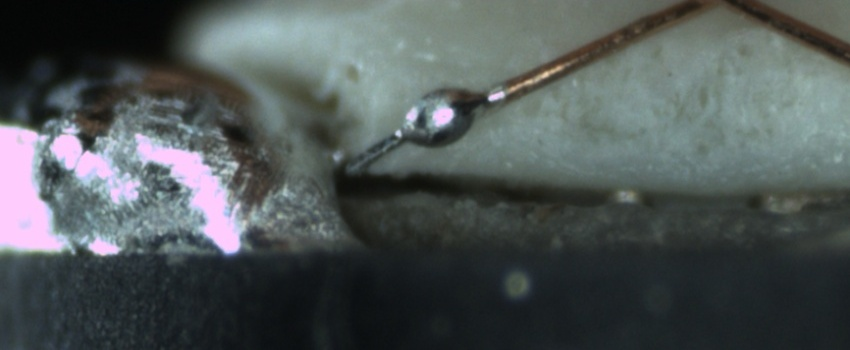CL: (669, 0, 757, 17)
TB: (400, 87, 485, 147)
TS: (340, 88, 508, 176)
TTCW: (343, 70, 538, 176)
